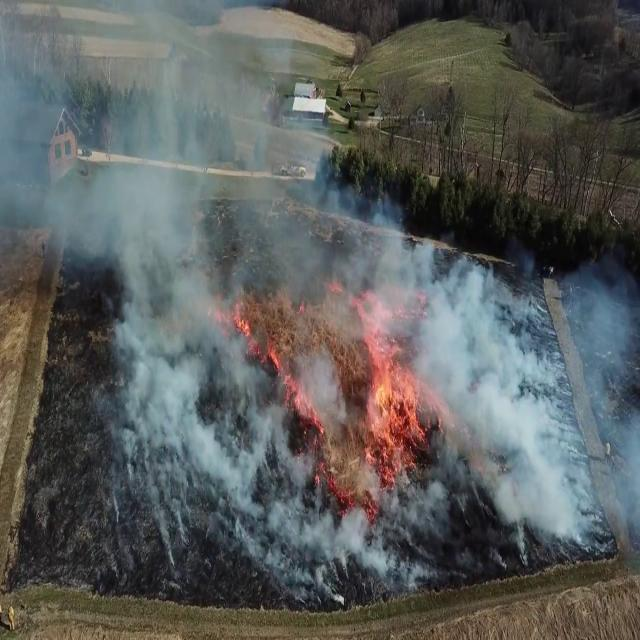Fire: (347, 282, 427, 485)
Smoke: (5, 87, 639, 598), (1, 4, 421, 596)
